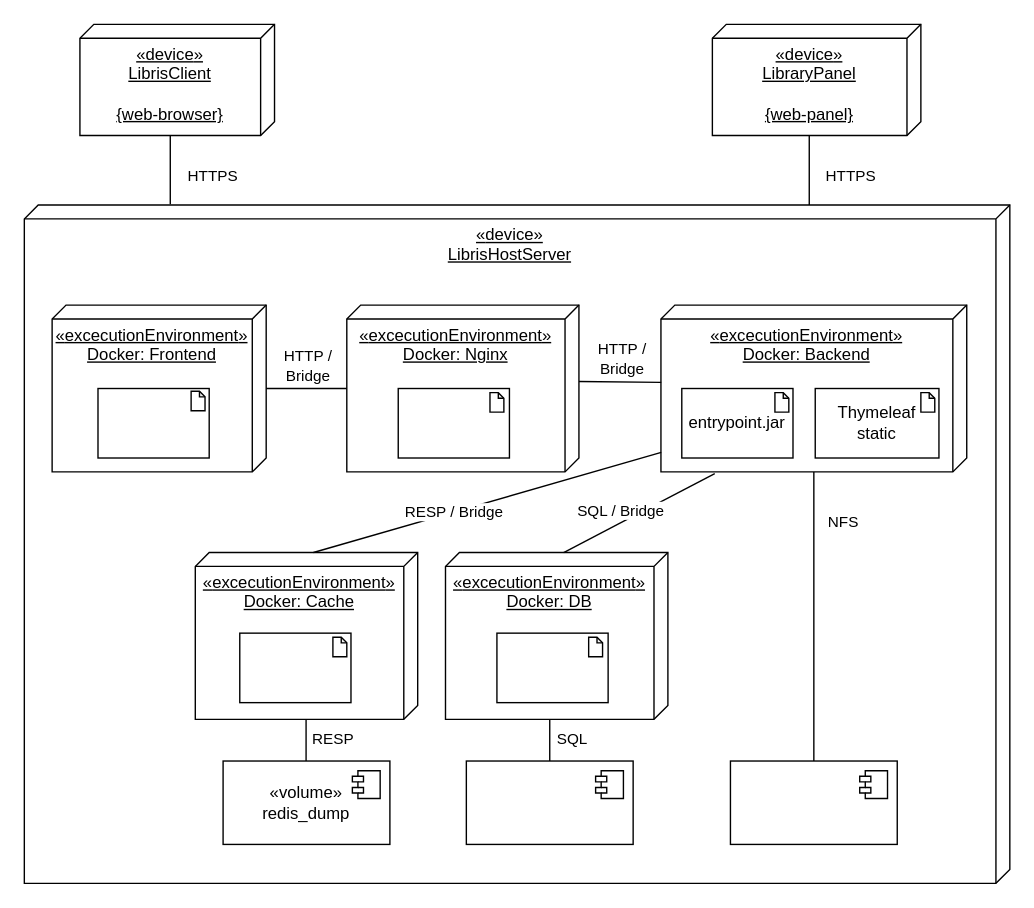
Image size: 1034x908. Some labels were removed from this diagram. Each missing label, with the centre of its shape:
"nginx.conf" goes at point 453,422.
"postgres:16" goes at point 552,667.
"React static" goes at point 153,422.
"redis:7" goes at point 294,667.
"«volume» file_storage" goes at point 813,802.
"«volume» postgres_data" goes at point 549,802.
